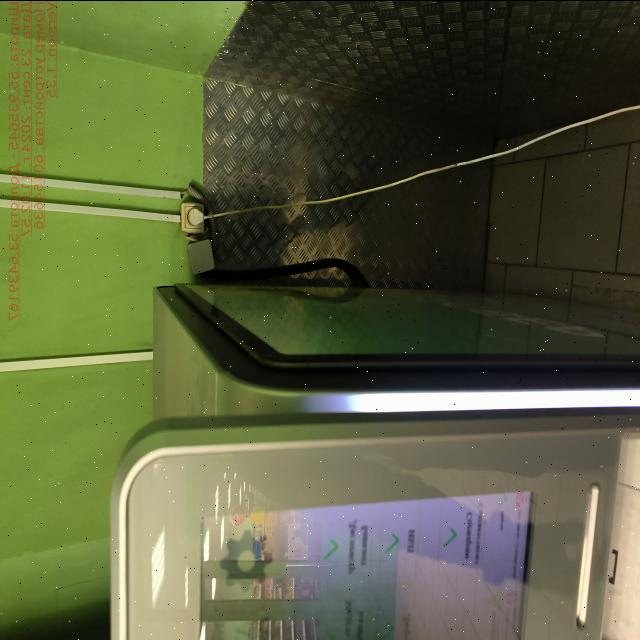bank: (107, 268, 640, 640)
